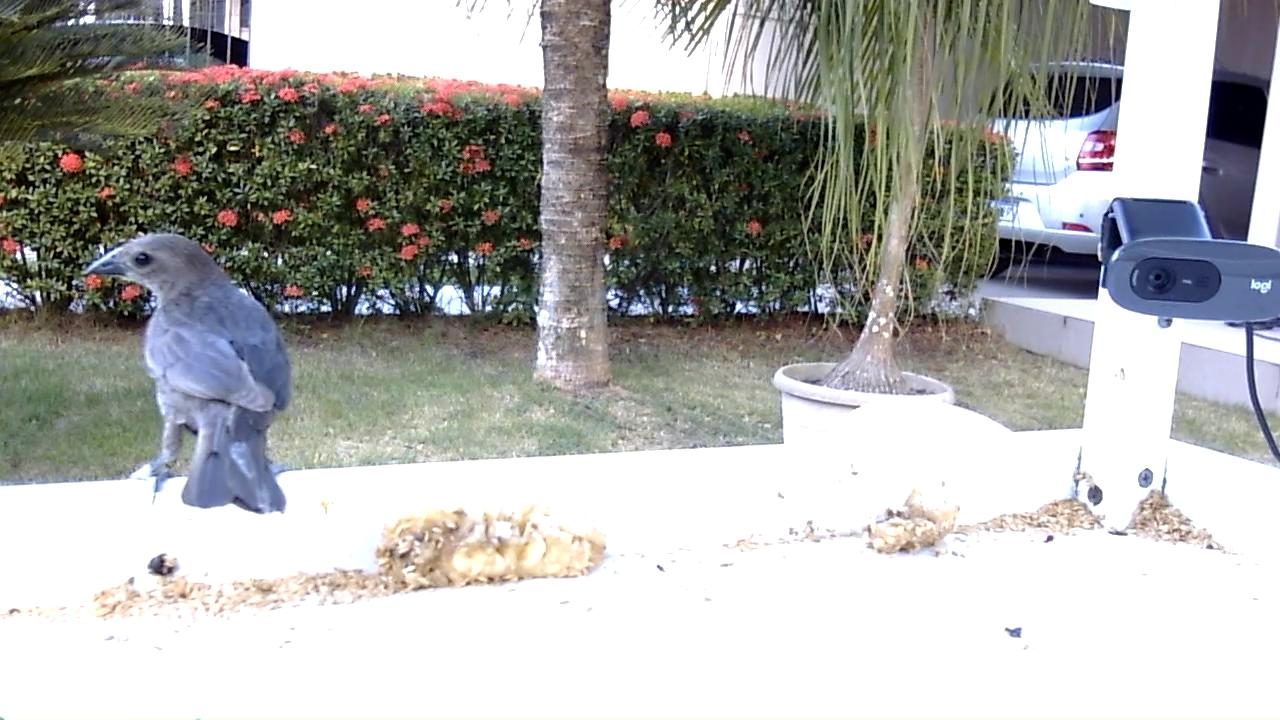chupim: (79, 230, 296, 519)
